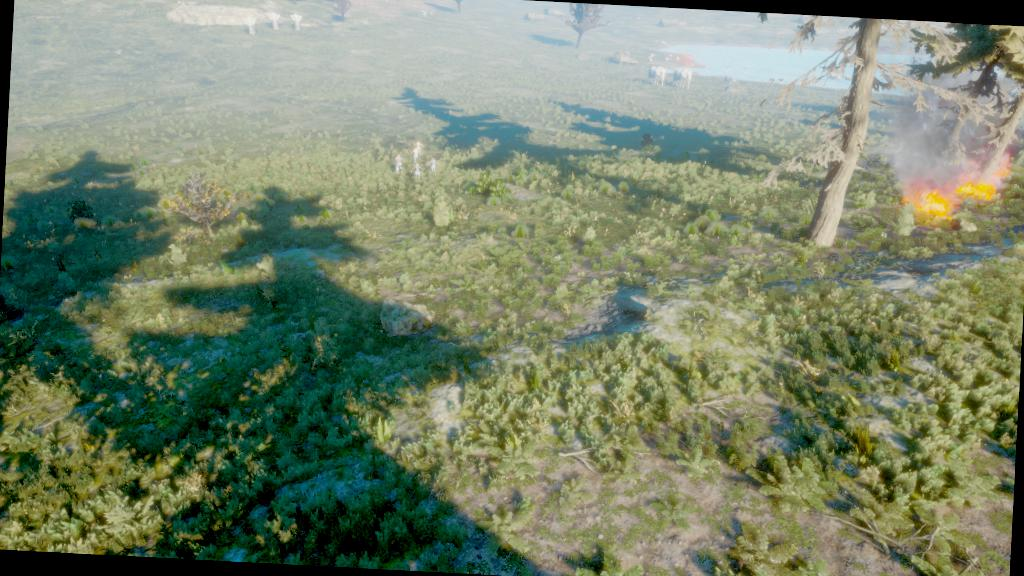Fire: (906, 155, 1012, 230)
elephant: (669, 64, 697, 86), (647, 65, 671, 87)
human: (392, 152, 407, 176), (412, 162, 424, 180), (414, 142, 424, 158), (410, 146, 420, 162), (429, 156, 439, 172)
smoke: (872, 97, 974, 175)
